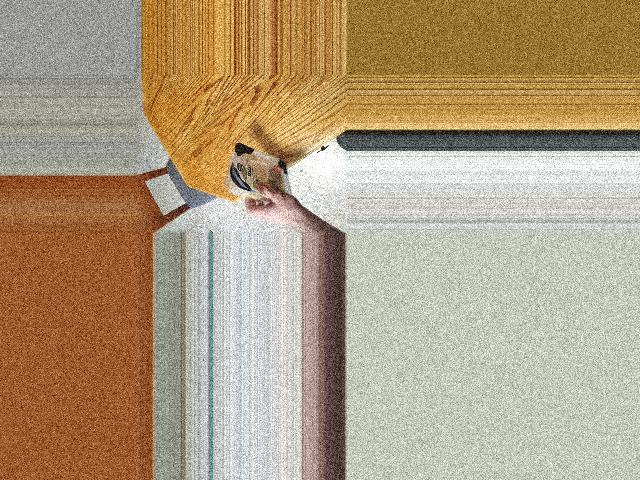cheese: (229, 147, 298, 198)
